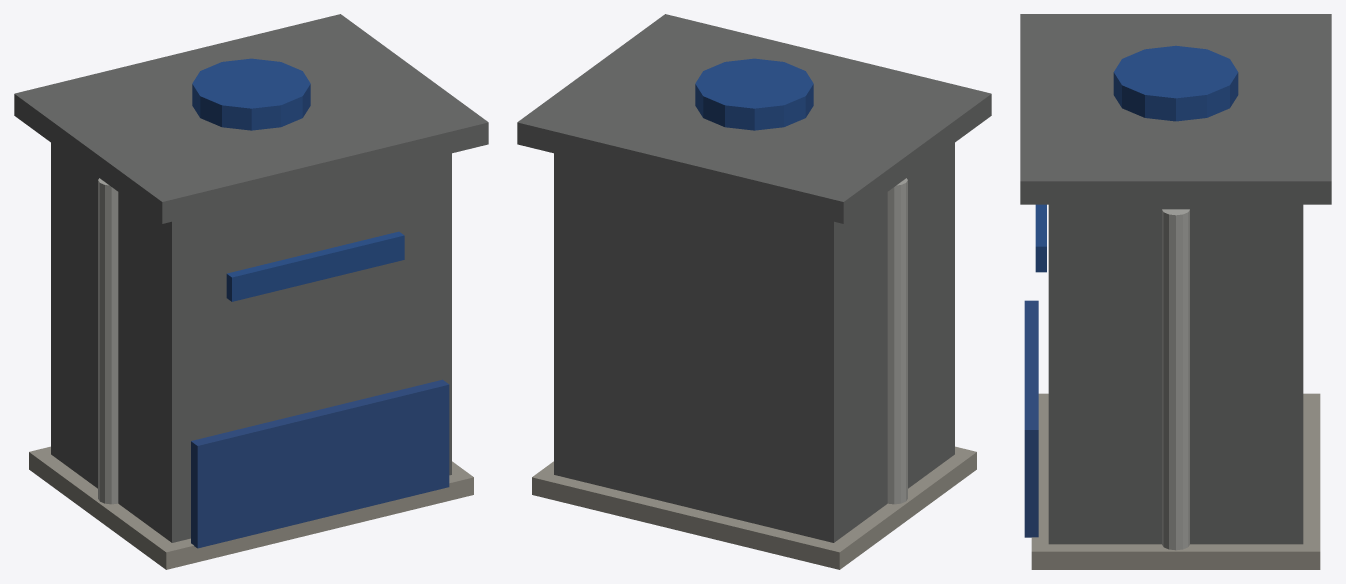
File: bld_commercial_a08_lod1.glb
3 views of the same model, side by side, from view 1: azimuth 30°, elevation 25°; view 2: azimuth 150°, elevation 25°; view 3: azimuth 270°, elevation 25° (orthographic). The views are drawn at different scales.
Parts seen in each view (by area): view 1: body; view 2: body; view 3: body.
Boxes of the visible parts, x1,y1,x2,y2 form: body: (14,14,488,569); body: (517,14,991,569); body: (1020,14,1331,569).
Size of the model in its own units: 7 by 8.16 by 5.5.
